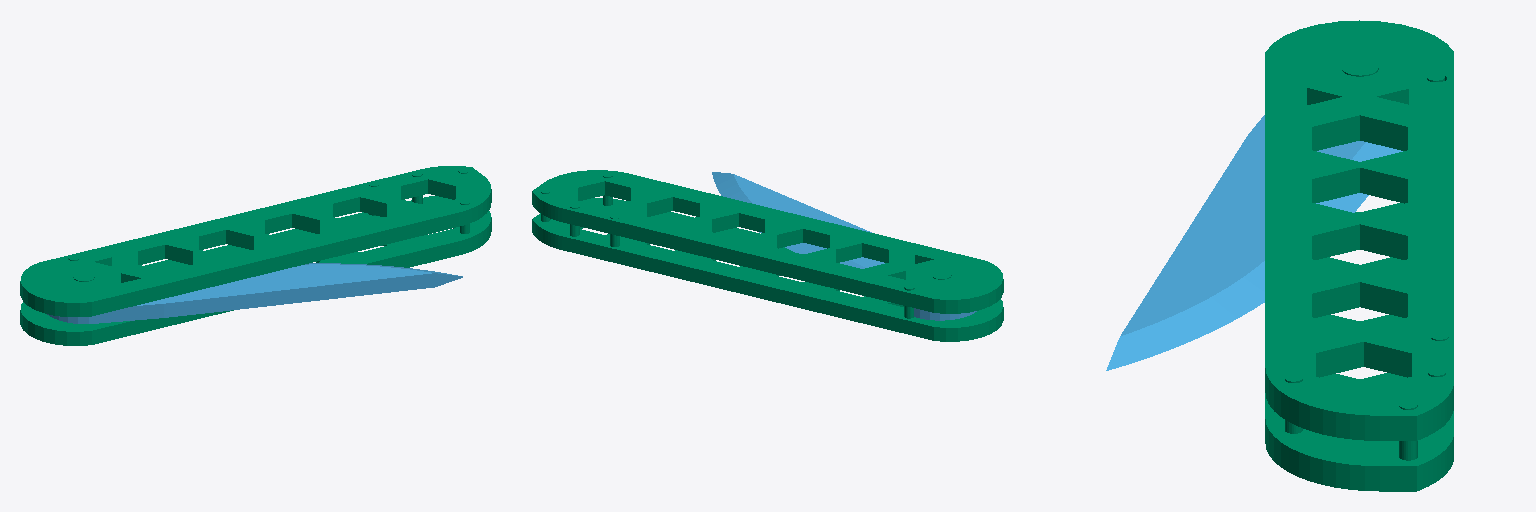
robot.urdf — partnet_b4f8a49abc400a775d6ddb389935ee57:
<?xml version="1.0" ?>
<robot name="partnet_b4f8a49abc400a775d6ddb389935ee57">
	<link name="base"/>
	<link name="link_0">
		<visual name="rotation_blade-1">
			<origin xyz="0.02734621478067001 -0.08726000000000056 -0.7087062824620269"/>
			<geometry>
				<mesh filename="textured_objs/original-9.obj"/>
			</geometry>
		</visual>
		<collision>
			<origin xyz="0.02734621478067001 -0.08726000000000056 -0.7087062824620269"/>
			<geometry>
				<mesh filename="textured_objs/original-9.obj"/>
			</geometry>
		</collision>
	</link>
	<joint name="joint_0" type="revolute">
		<origin xyz="-0.02734621478067001 0.08726000000000056 0.7087062824620269"/>
		<axis xyz="-0.0 -1.0 -0.0"/>
		<child link="link_0"/>
		<parent link="link_1"/>
		<limit lower="-0.326725635973339" upper="3.506017401406209"/>
	</joint>
	<link name="link_1">
		<visual name="base_body-2">
			<origin xyz="0 0 0"/>
			<geometry>
				<mesh filename="textured_objs/original-4.obj"/>
			</geometry>
		</visual>
		<visual name="base_body-2">
			<origin xyz="0 0 0"/>
			<geometry>
				<mesh filename="textured_objs/original-3.obj"/>
			</geometry>
		</visual>
		<visual name="base_body-2">
			<origin xyz="0 0 0"/>
			<geometry>
				<mesh filename="textured_objs/original-2.obj"/>
			</geometry>
		</visual>
		<visual name="base_body-2">
			<origin xyz="0 0 0"/>
			<geometry>
				<mesh filename="textured_objs/original-8.obj"/>
			</geometry>
		</visual>
		<visual name="base_body-2">
			<origin xyz="0 0 0"/>
			<geometry>
				<mesh filename="textured_objs/original-5.obj"/>
			</geometry>
		</visual>
		<visual name="base_body-2">
			<origin xyz="0 0 0"/>
			<geometry>
				<mesh filename="textured_objs/original-6.obj"/>
			</geometry>
		</visual>
		<visual name="base_body-2">
			<origin xyz="0 0 0"/>
			<geometry>
				<mesh filename="textured_objs/original-7.obj"/>
			</geometry>
		</visual>
		<visual name="base_body-2">
			<origin xyz="0 0 0"/>
			<geometry>
				<mesh filename="textured_objs/original-1.obj"/>
			</geometry>
		</visual>
		<collision>
			<origin xyz="0 0 0"/>
			<geometry>
				<mesh filename="textured_objs/original-4.obj"/>
			</geometry>
		</collision>
		<collision>
			<origin xyz="0 0 0"/>
			<geometry>
				<mesh filename="textured_objs/original-3.obj"/>
			</geometry>
		</collision>
		<collision>
			<origin xyz="0 0 0"/>
			<geometry>
				<mesh filename="textured_objs/original-2.obj"/>
			</geometry>
		</collision>
		<collision>
			<origin xyz="0 0 0"/>
			<geometry>
				<mesh filename="textured_objs/original-8.obj"/>
			</geometry>
		</collision>
		<collision>
			<origin xyz="0 0 0"/>
			<geometry>
				<mesh filename="textured_objs/original-5.obj"/>
			</geometry>
		</collision>
		<collision>
			<origin xyz="0 0 0"/>
			<geometry>
				<mesh filename="textured_objs/original-6.obj"/>
			</geometry>
		</collision>
		<collision>
			<origin xyz="0 0 0"/>
			<geometry>
				<mesh filename="textured_objs/original-7.obj"/>
			</geometry>
		</collision>
		<collision>
			<origin xyz="0 0 0"/>
			<geometry>
				<mesh filename="textured_objs/original-1.obj"/>
			</geometry>
		</collision>
	</link>
	<joint name="joint_1" type="fixed">
		<origin rpy="1.570796326794897 0 -1.570796326794897" xyz="0 0 0"/>
		<child link="link_1"/>
		<parent link="base"/>
	</joint>
</robot>

--- Facts derived from the render (not from the file) ---
3 views of the same robot in one strip: view 1: azimuth 30°, elevation 25°; view 2: azimuth 150°, elevation 25°; view 3: azimuth 270°, elevation 25° (orthographic).
Model partnet_b4f8a49abc400a775d6ddb389935ee57 with 3 links and 2 joints (1 revolute, 1 fixed), rooted at base, posed every joint at zero.
Visible links, largest first — view 1: link_1, link_0; view 2: link_1, link_0; view 3: link_1, link_0.
Boxes of the visible links, x1,y1,x2,y2 form: link_1: (20,166,491,345); link_0: (47,263,462,323); link_1: (532,170,1003,341); link_0: (712,172,976,320); link_1: (1265,20,1453,491); link_0: (1106,115,1402,370).
Size in the robot's own frame: 1.93 by 0.7179 by 0.18 metres.
Meshes: 9 distinct files referenced, 9 mesh visuals loaded (9 OBJ).